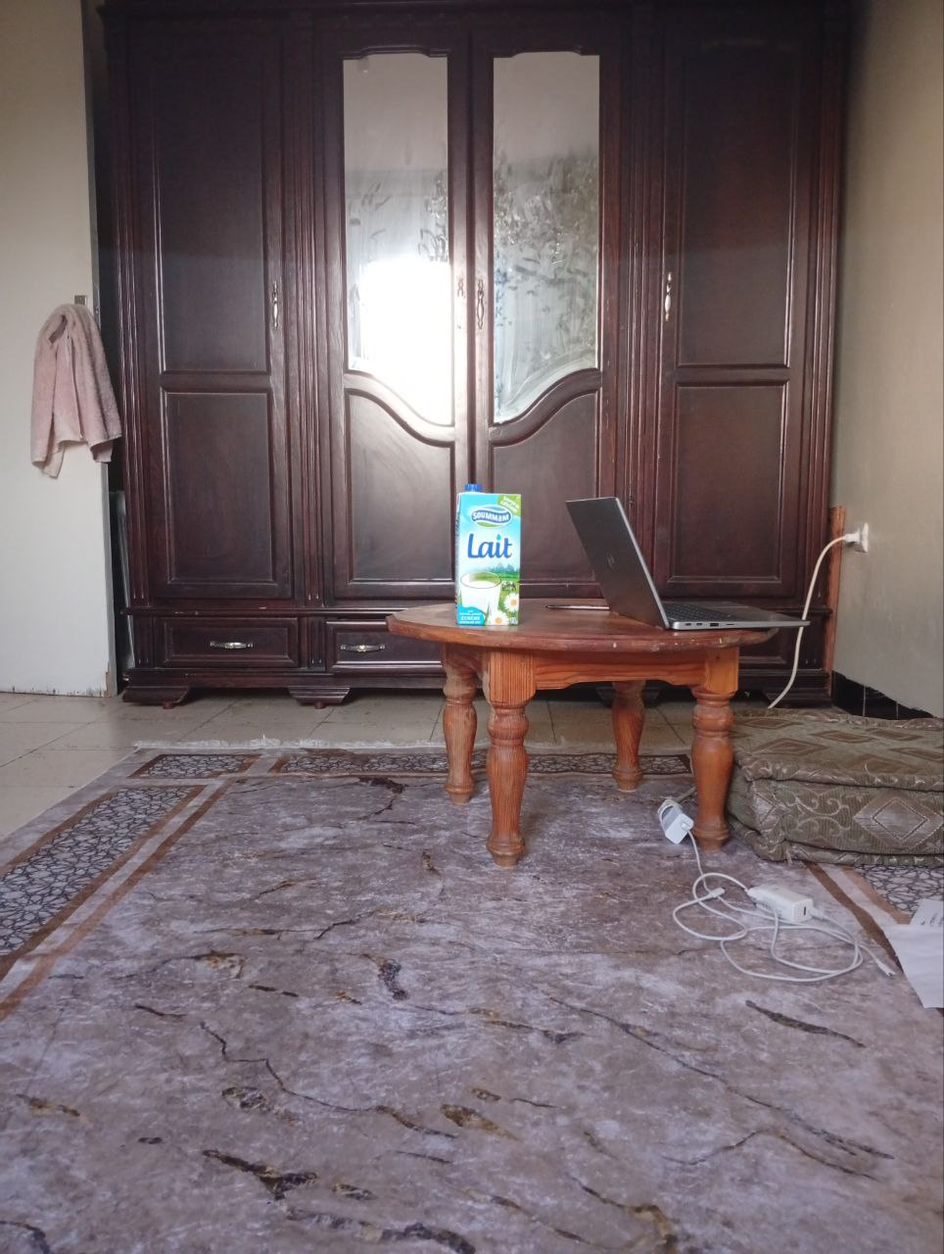soummam_milk: (443, 480, 525, 633)
